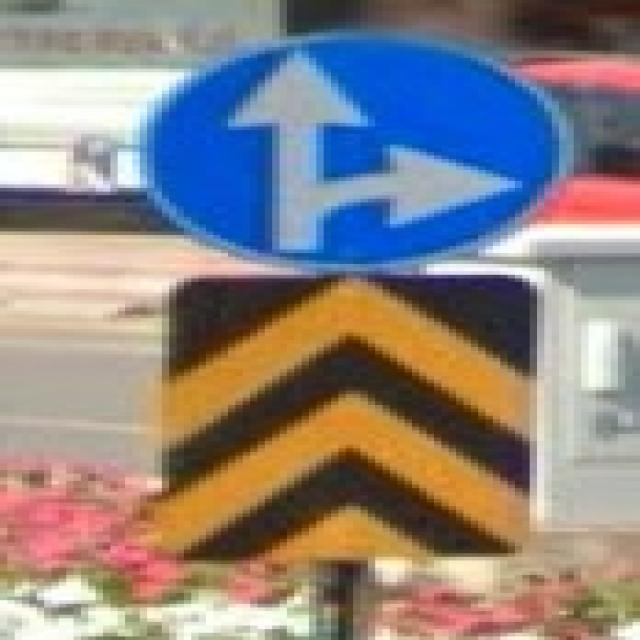Straight or Right: (137, 35, 549, 256)
